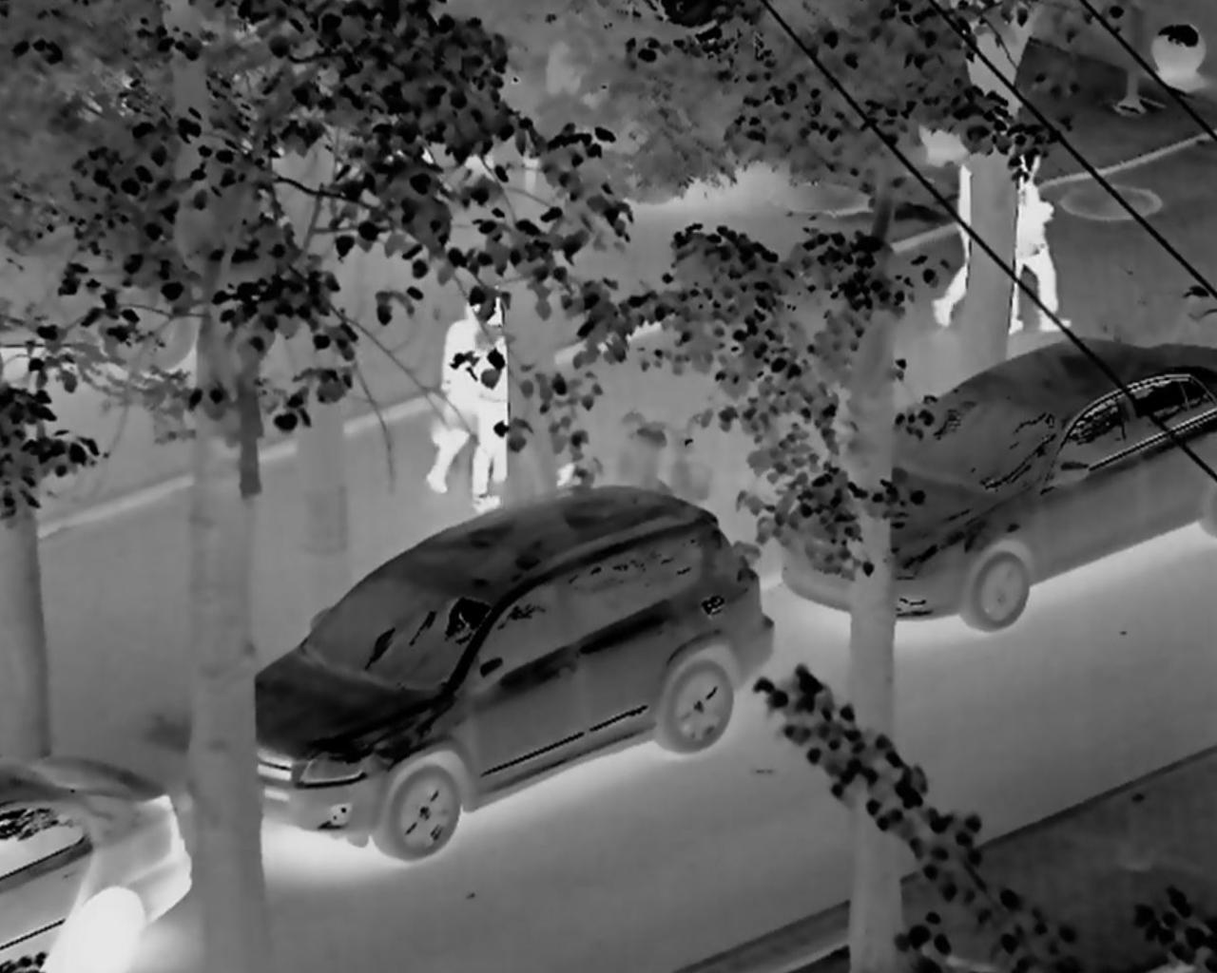person: (1002, 139, 1075, 359), (420, 275, 491, 495), (464, 296, 530, 490), (936, 124, 987, 319)
